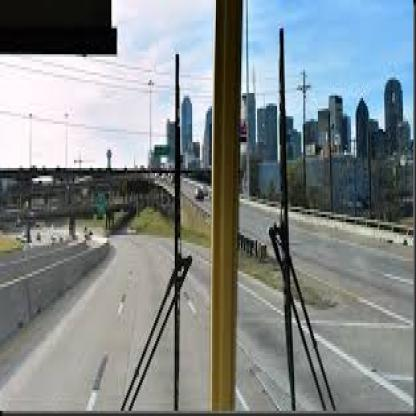car: (188, 178, 204, 203)
